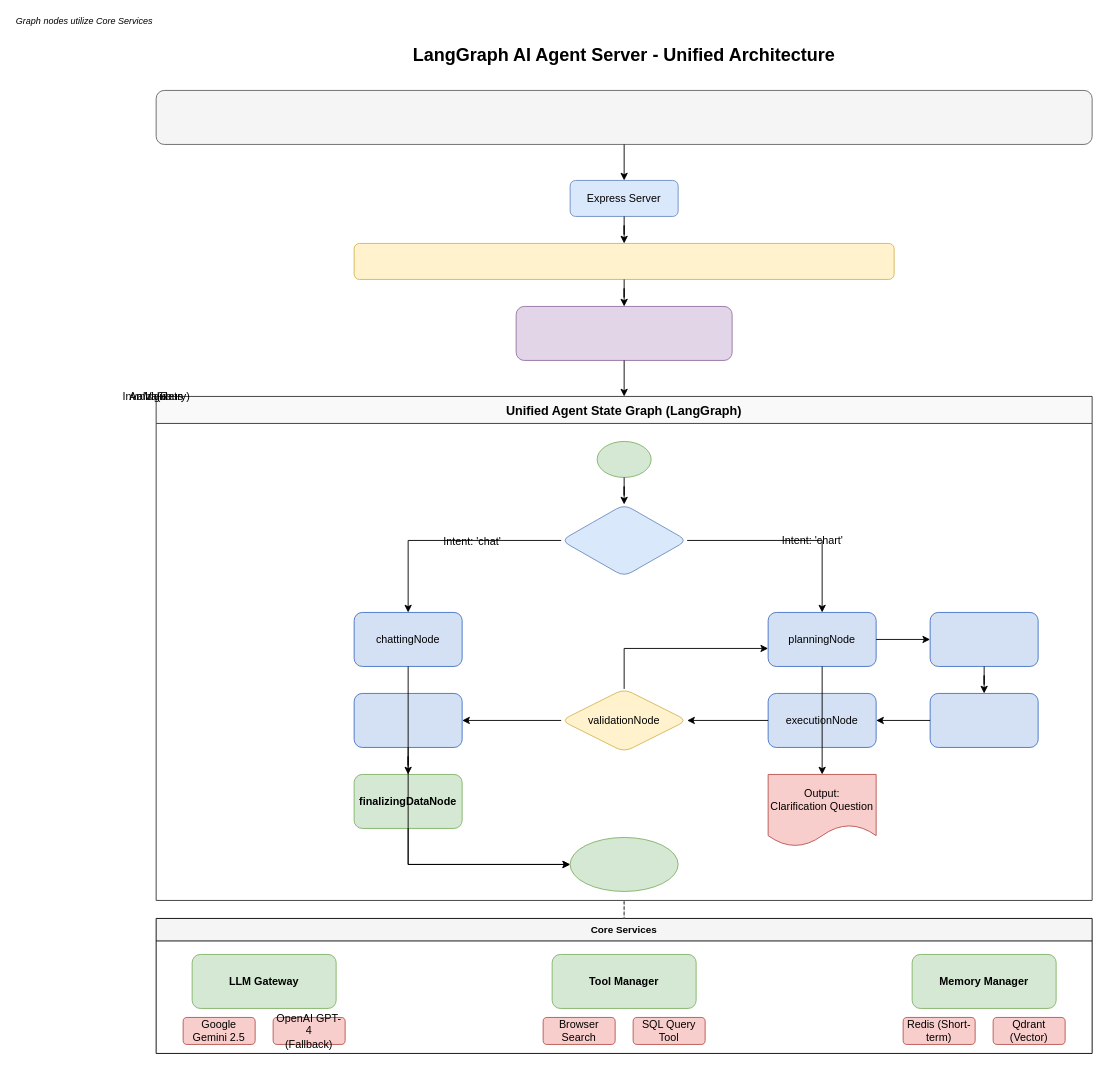
Image size: 1108x1069. Some labels were removed from this diagram. Each missing label, with the box of its shape:
Agent Orchestrator (runAgentFlow / streamResponse): (515, 306, 732, 360)
Client Applications (Web UI, API Consumers): (155, 90, 1092, 144)
Final Response (Chat or Chart): (569, 837, 678, 891)
Middleware (Auth, Rate Limit, CORS, Security, Logging): (353, 243, 894, 279)
queryGenerationNode: (929, 693, 1038, 747)
routingNode: (560, 504, 687, 576)
schemaNode: (929, 612, 1038, 666)
Start: (596, 441, 651, 477)
transformationNode: (353, 693, 462, 747)
